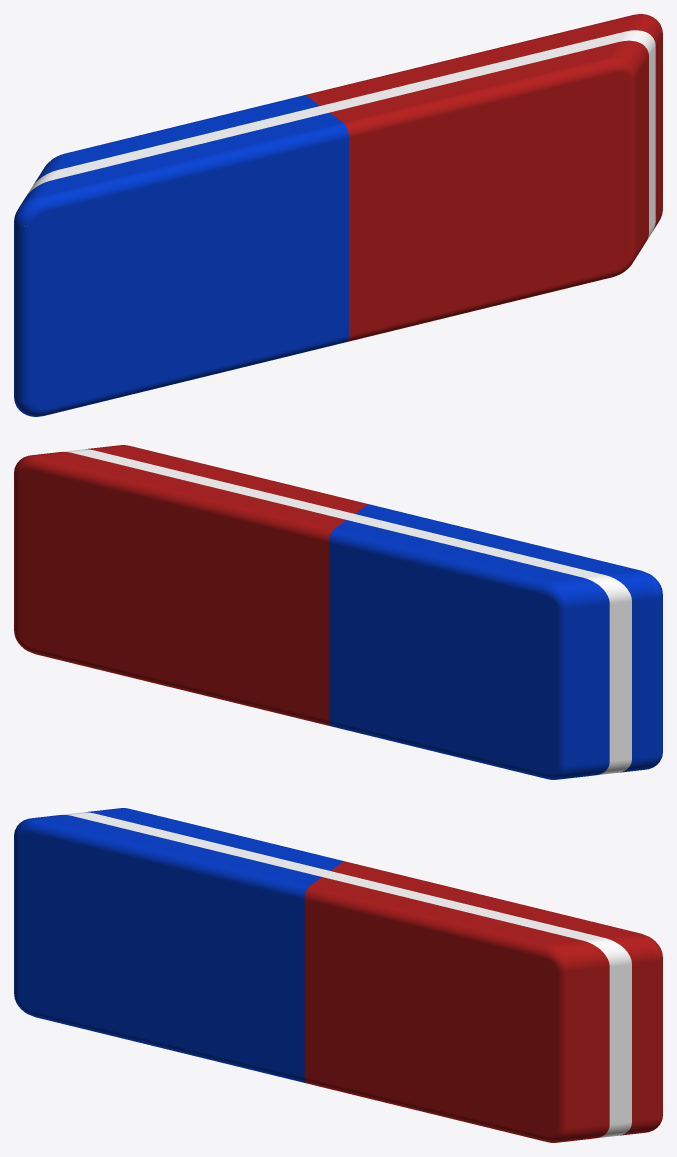
File: Gumica.obj
3 renders of one model, top to bottom at view 1: azimuth 30°, elevation 25°; view 2: azimuth 150°, elevation 25°; view 3: azimuth 330°, elevation 25°, orthographic. The views are drawn at different scales.
Parts seen in each view (by area): view 1: NONE_DC_Shell; view 2: NONE_DC_Shell; view 3: NONE_DC_Shell.
Part boxes in pixels (x1=…): NONE_DC_Shell: x1=14, y1=14, x2=662, y2=416; NONE_DC_Shell: x1=14, y1=445, x2=662, y2=779; NONE_DC_Shell: x1=14, y1=808, x2=662, y2=1142.
Bounding box in the file's own units: 652 × 200 × 80.
